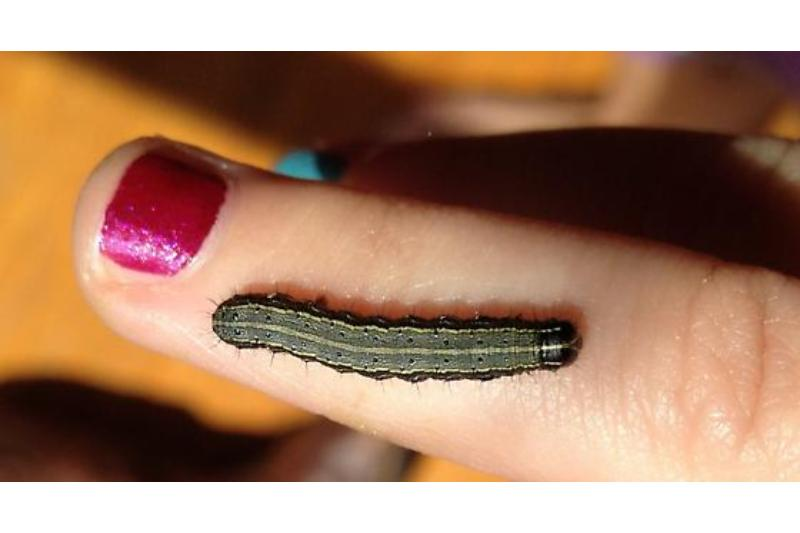fall-armyworm: (210, 295, 585, 385)
